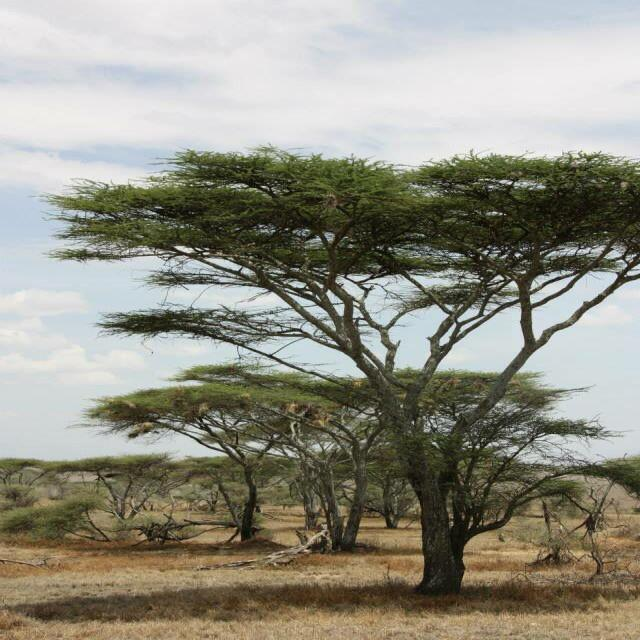Acacia: (68, 172, 622, 584)
